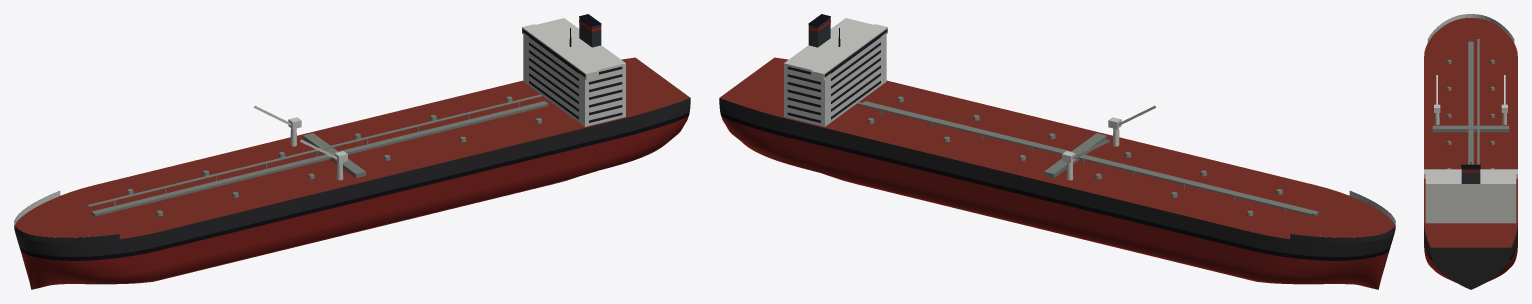
File: tanker.glb
The picture shows the model from 3 angles, left to right: view 1: azimuth 30°, elevation 25°; view 2: azimuth 150°, elevation 25°; view 3: azimuth 270°, elevation 25°; orthographic projection. The views are drawn at different scales.
Parts seen in each view (by area): view 1: tanker; view 2: tanker; view 3: tanker.
Boxes of the visible parts, x1,y1,x2,y2 form: tanker: [14, 14, 690, 289]; tanker: [719, 14, 1395, 289]; tanker: [1424, 14, 1517, 289].
Bounding box in the file's own units: 255 × 50.55 × 43.99.
